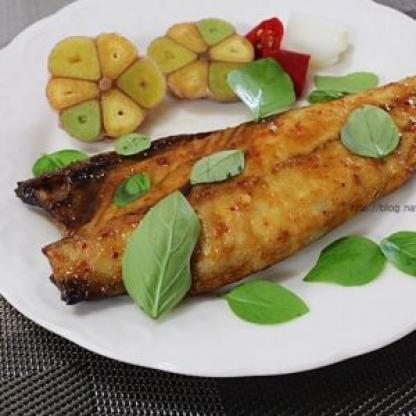Peixe: (19, 63, 416, 306)
